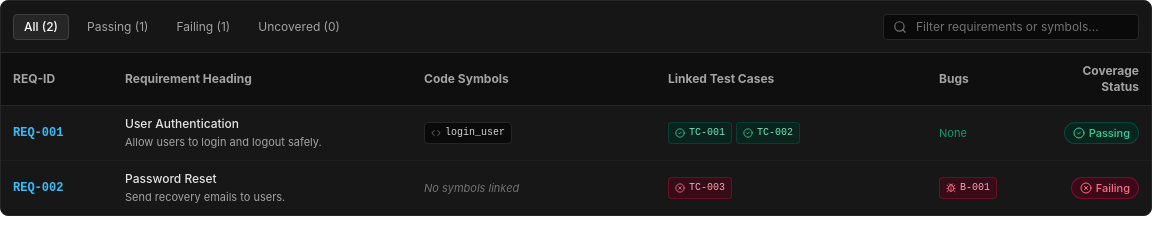
it: CoverageTable Component › filters by status button
Click the button "Failing (1)" at (203, 26), box [166,14,240,38]
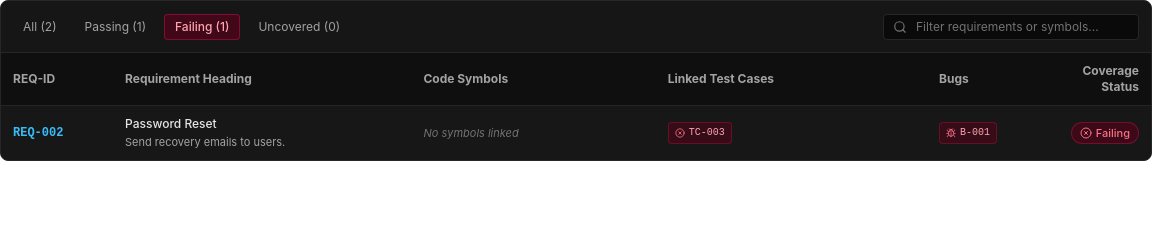
Expected: the text "REQ-002" is shown, [1,106,113,160]
Result: the text "REQ-001" is gone
